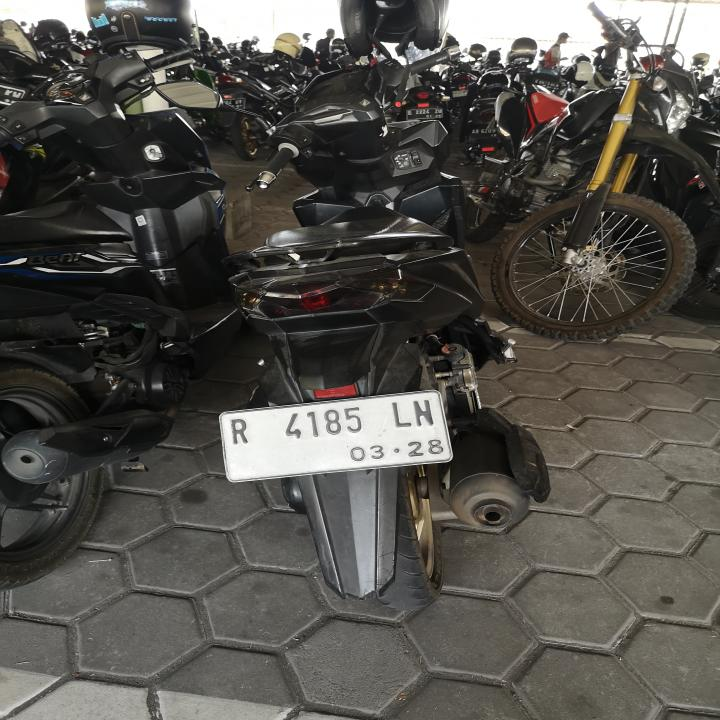plate: (212, 388, 455, 484)
